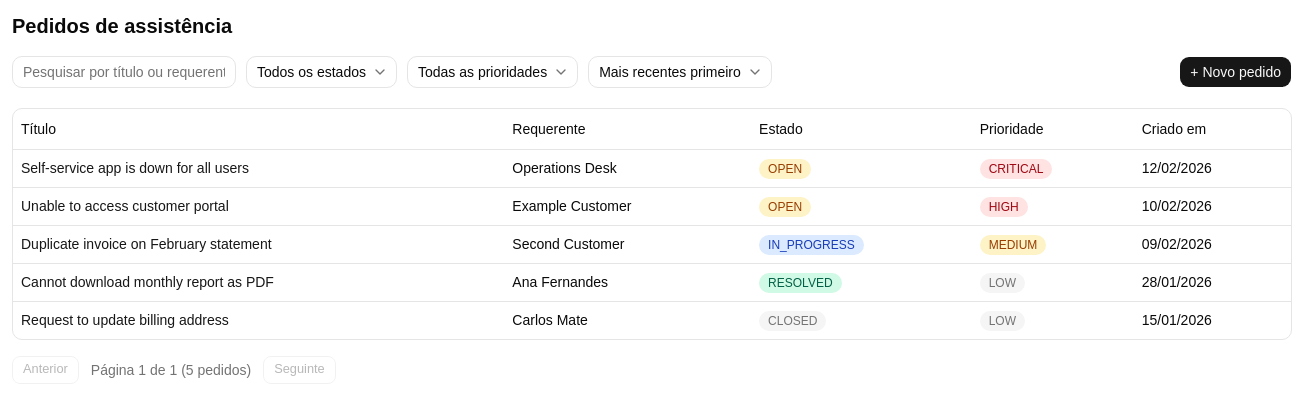
Test case: RequestsListPage › shows an empty state when no request matches the search
This screenshot has width=1292, height=401.
Type "no-such-request" into the field with placeholder "Pesquisar por título ou requerente" at (124, 72), box [12,56,236,88]
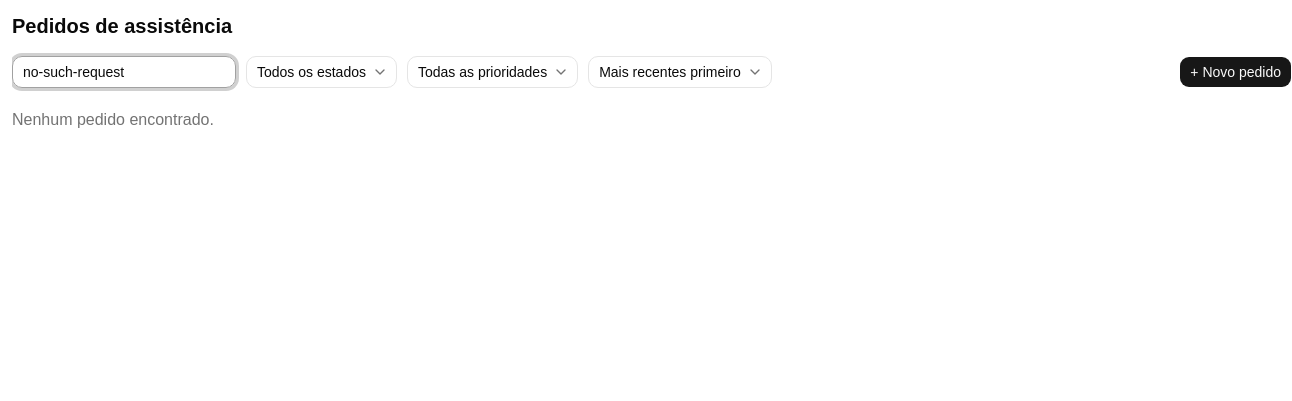
Expected: the text "Nenhum pedido encontrado." is shown, [12,111,214,128]
